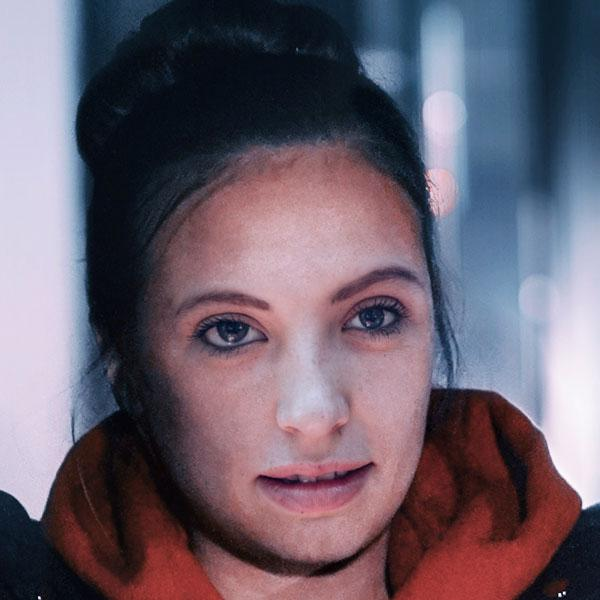Eyes: (330, 287, 414, 346), (185, 304, 275, 359)
